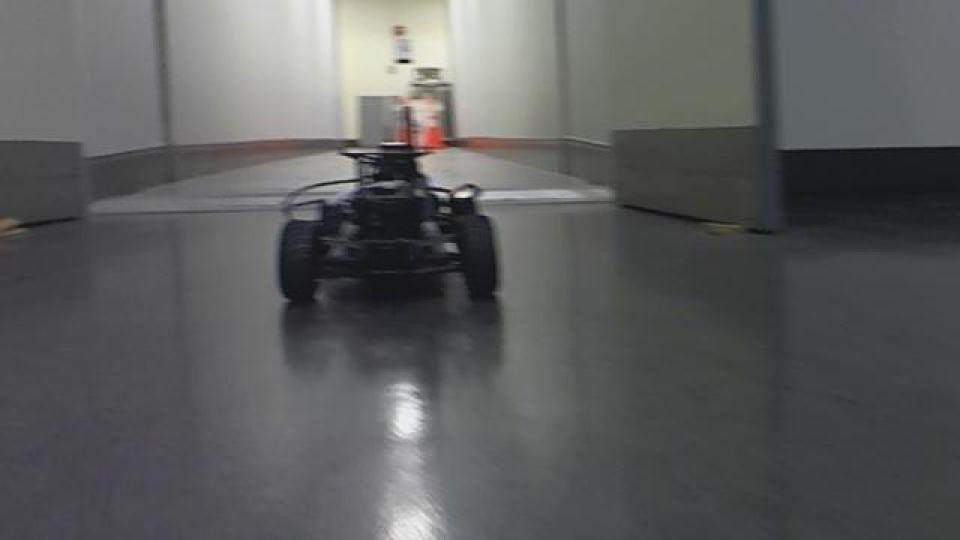car: (272, 140, 504, 306)
